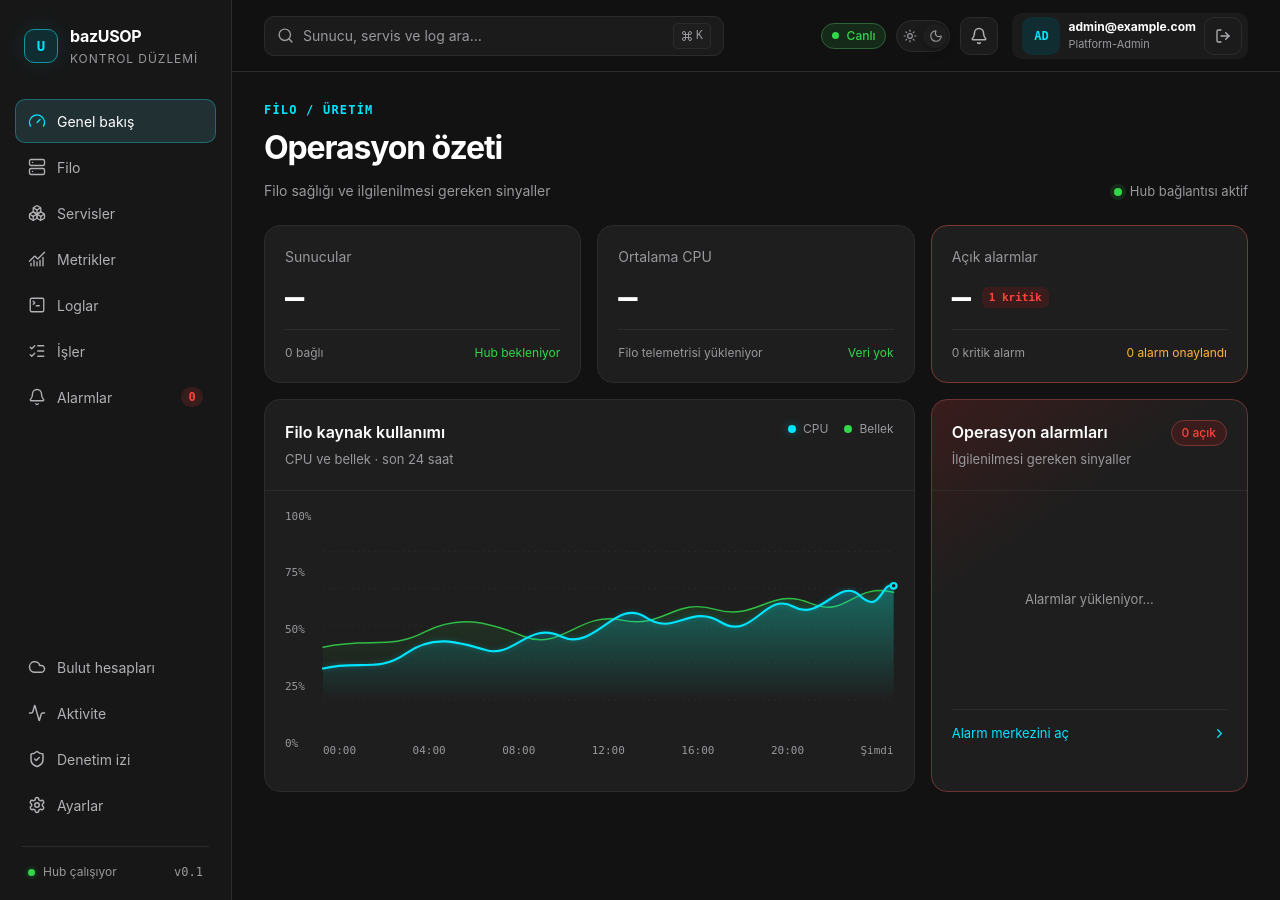
Test case: bazUSOP shell › lets the operator switch between light and dark themes
Step 1. Click the button named "Açık temayı kullan" → (924, 36), box [896,20,950,52]
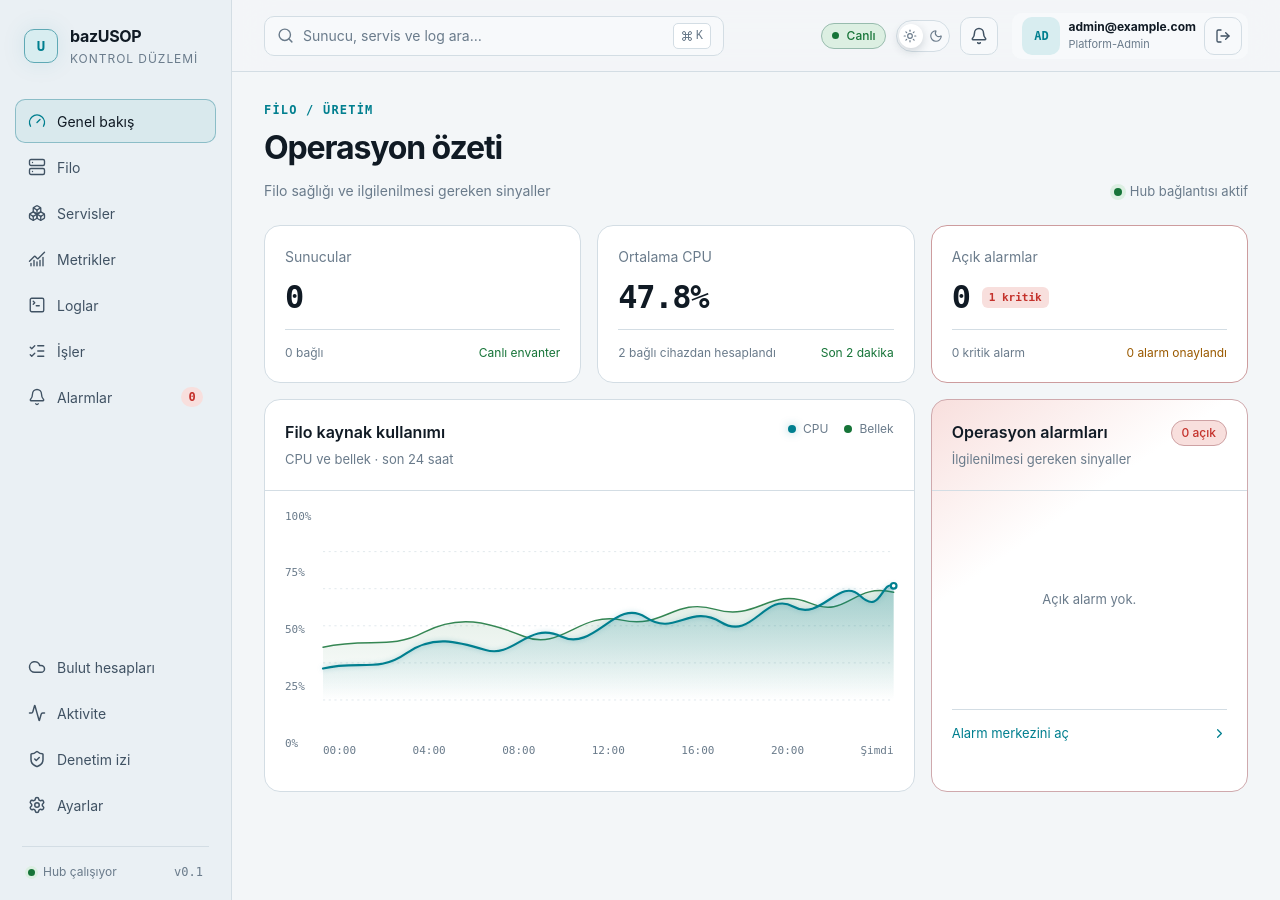
Expected: the button named "Koyu temayı kullan" is shown, [896,20,950,52]
